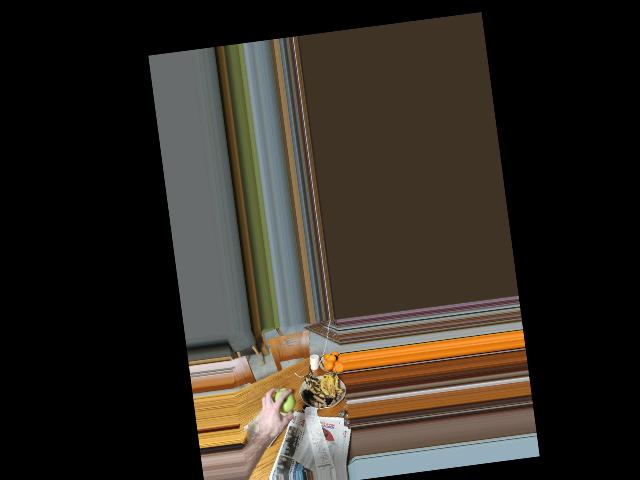apple: (271, 387, 296, 415)
